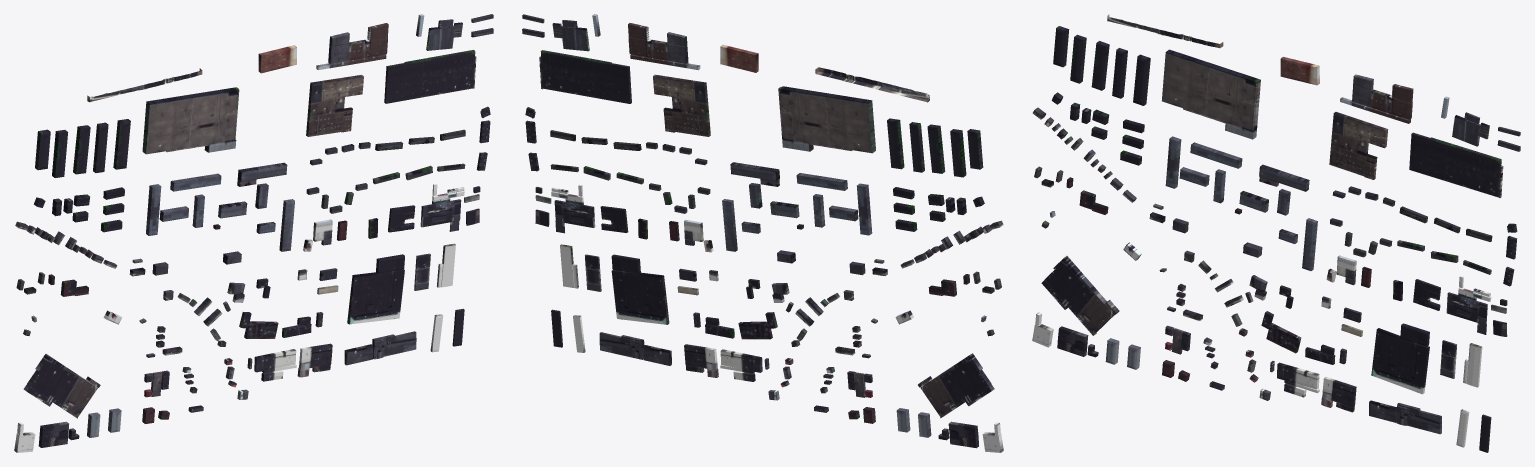
The model's file is building_model.obj.
The picture shows the model from 3 angles, left to right: view 1: azimuth 30°, elevation 25°; view 2: azimuth 150°, elevation 25°; view 3: azimuth 330°, elevation 25°; orthographic projection.
Bounding box in the file's own units: 1636 × 1116 × 24.01.
1 material, 1 textured.
